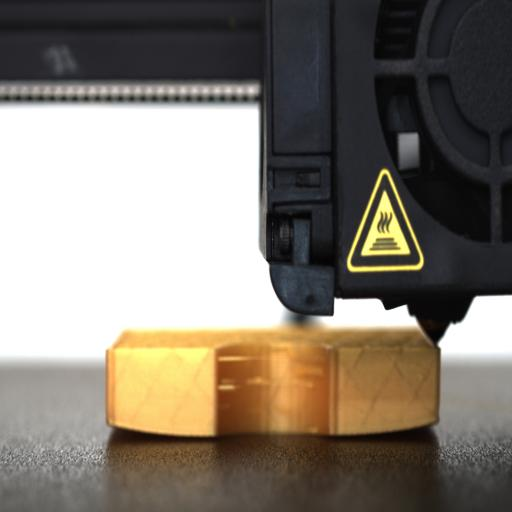warp: (105, 417, 227, 439), (332, 418, 443, 439)
